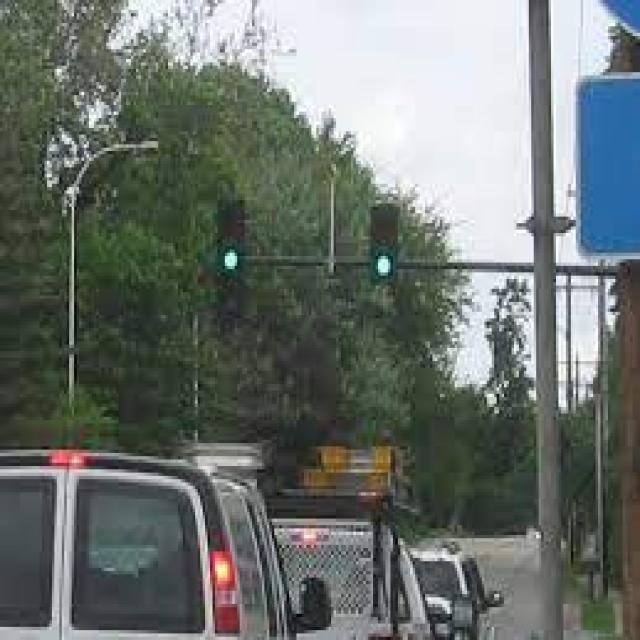green: (219, 198, 243, 279), (370, 207, 395, 284)
